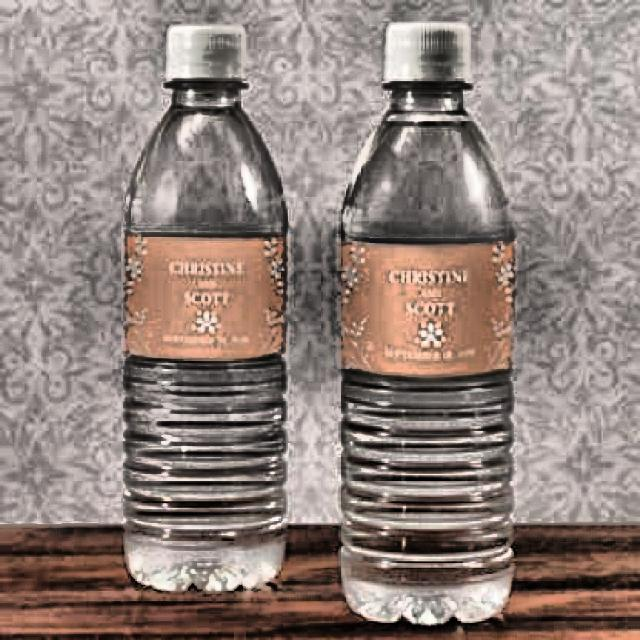Bottles: (311, 11, 554, 625), (103, 7, 304, 614)
